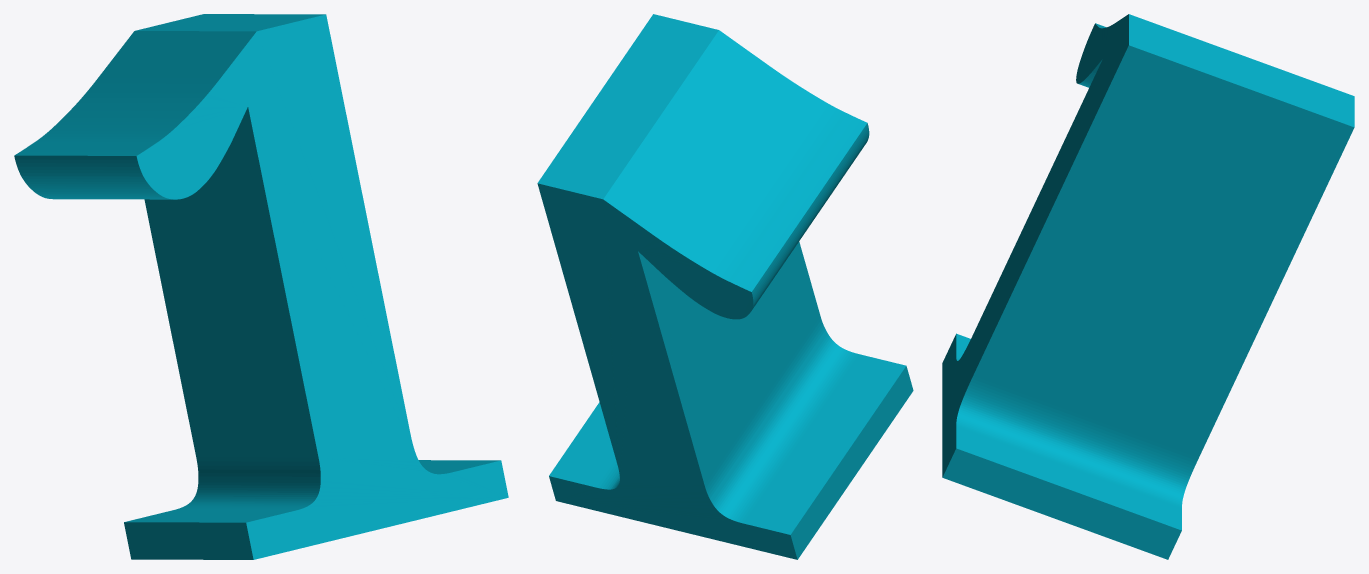
3 views of the same model, side by side, from view 1: azimuth 30°, elevation 25°; view 2: azimuth 150°, elevation 25°; view 3: azimuth 270°, elevation 25° (orthographic). The views are drawn at different scales.
Parts seen in each view (by area): view 1: Mesh_Mesh_head_geo.001_lambert2SG.001; view 2: Mesh_Mesh_head_geo.001_lambert2SG.001; view 3: Mesh_Mesh_head_geo.001_lambert2SG.001.
Part boxes in pixels (x1=…): Mesh_Mesh_head_geo.001_lambert2SG.001: x1=14, y1=14, x2=508, y2=559; Mesh_Mesh_head_geo.001_lambert2SG.001: x1=537, y1=14, x2=913, y2=559; Mesh_Mesh_head_geo.001_lambert2SG.001: x1=942, y1=14, x2=1354, y2=559.
Bounding box in the file's own units: 25.43 × 43.52 × 34.
